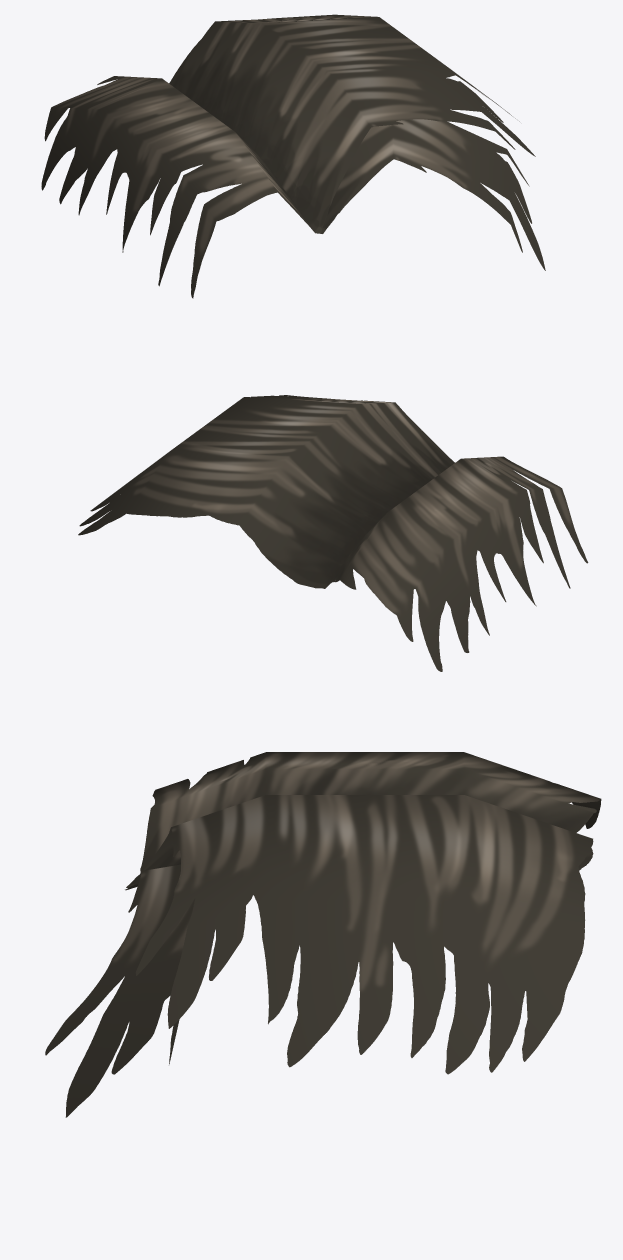
Rendered from accesorio_esqueleto_peluca_FBX.FBX.
3 renders of one model, top to bottom at view 1: azimuth 30°, elevation 25°; view 2: azimuth 150°, elevation 25°; view 3: azimuth 270°, elevation 25°, orthographic. The views are drawn at different scales.
Parts seen in each view (by area): view 1: accesorio_esqueleto_peluca; view 2: accesorio_esqueleto_peluca; view 3: accesorio_esqueleto_peluca.
Part boxes in pixels (left/top/right/bottom): accesorio_esqueleto_peluca: left=41, top=14, right=545, bottom=298; accesorio_esqueleto_peluca: left=78, top=395, right=588, bottom=671; accesorio_esqueleto_peluca: left=45, top=752, right=601, bottom=1117.
Bounding box in the file's own units: 11.18 × 6.65 × 10.28.
